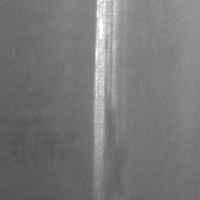scratches: (92, 0, 120, 168)
